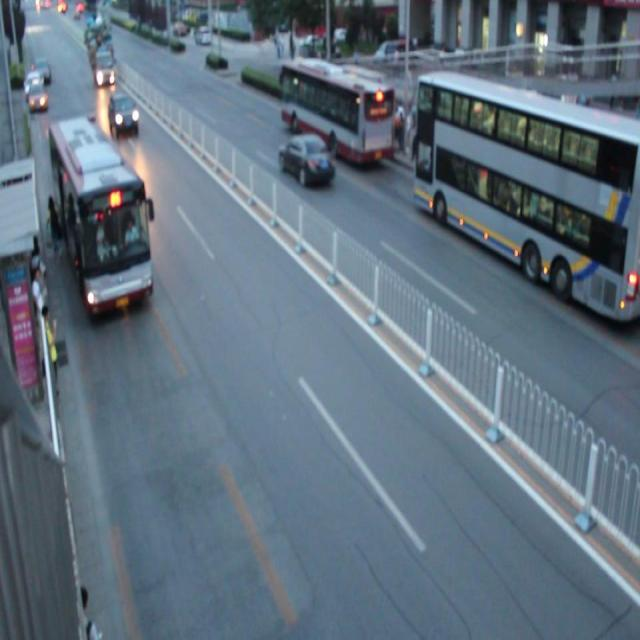car: (278, 133, 336, 188), (108, 91, 140, 138), (28, 79, 49, 112)
van: (416, 74, 640, 318), (47, 120, 154, 316), (281, 57, 394, 166)
